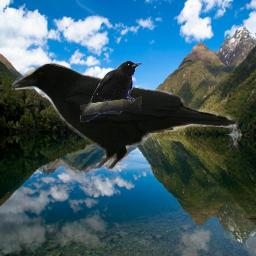Crow: (6, 57, 236, 171), (80, 61, 142, 122)
